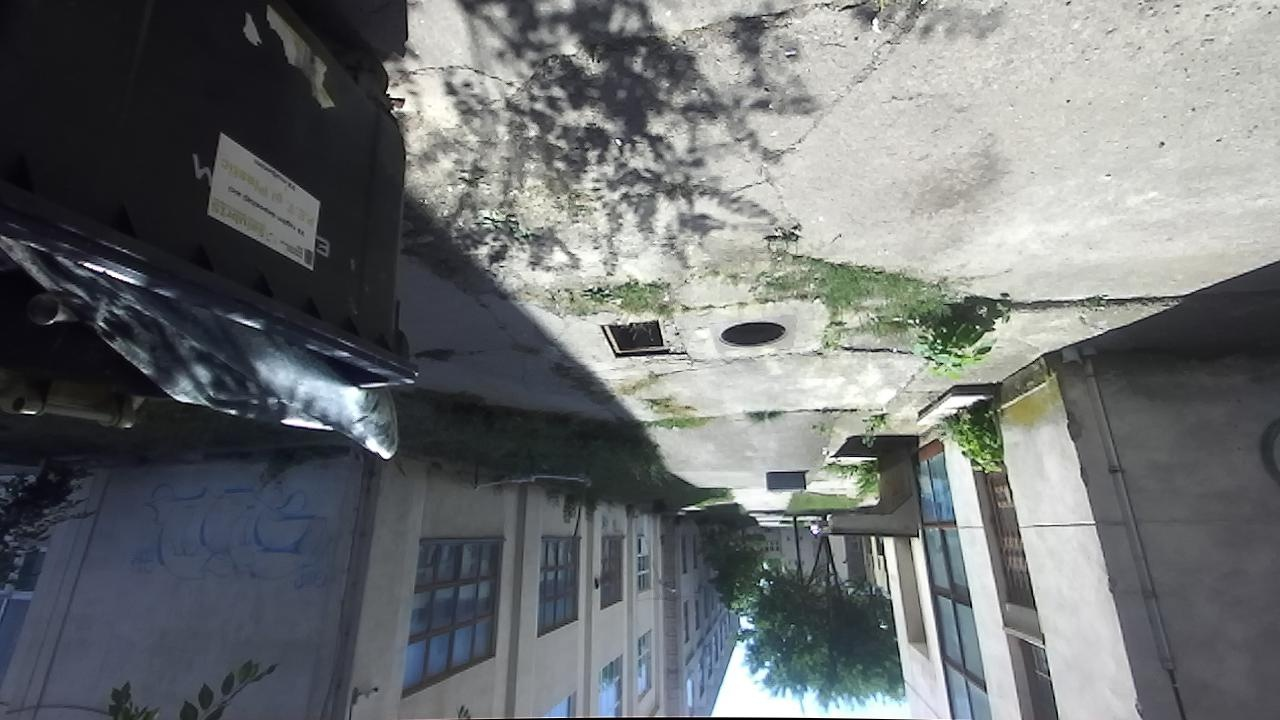drain: (592, 315, 669, 358), (713, 318, 793, 355)
